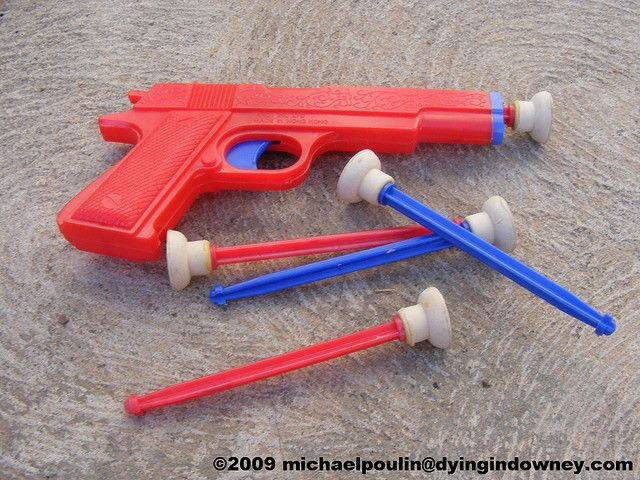Arma Falsa: (55, 76, 554, 262)
